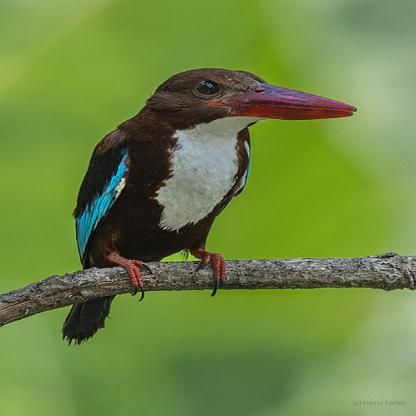Burung: (59, 67, 355, 347)
